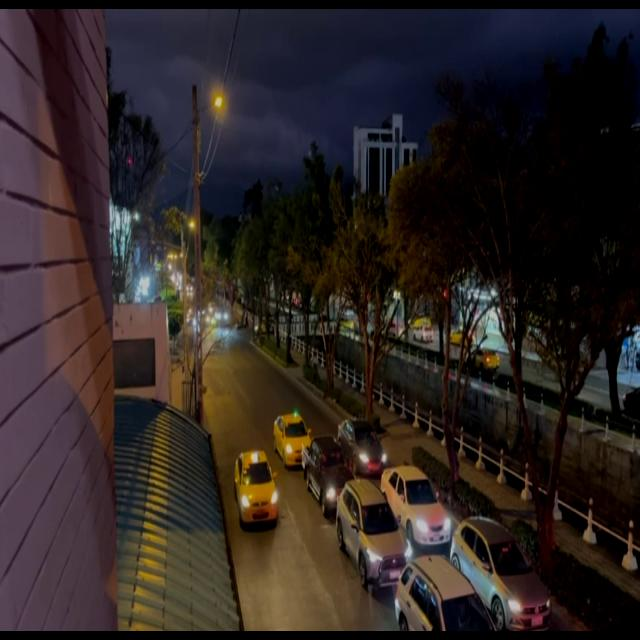CMT: (304, 436, 352, 512)
